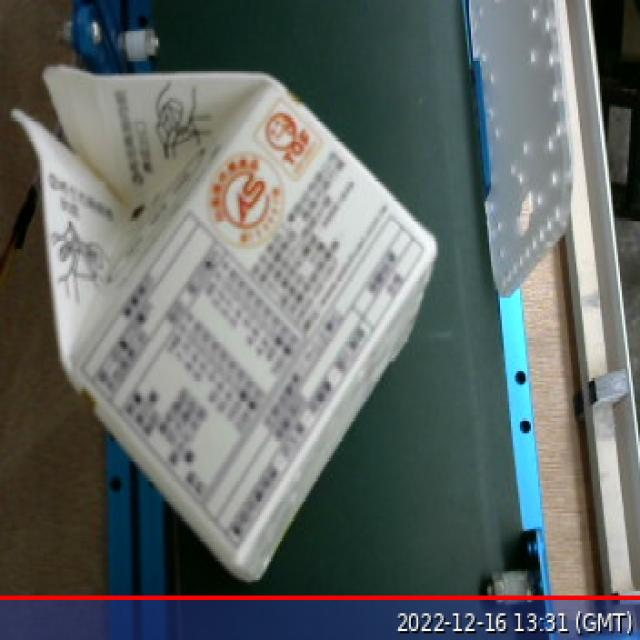non_white_jug: (1, 55, 453, 592)
